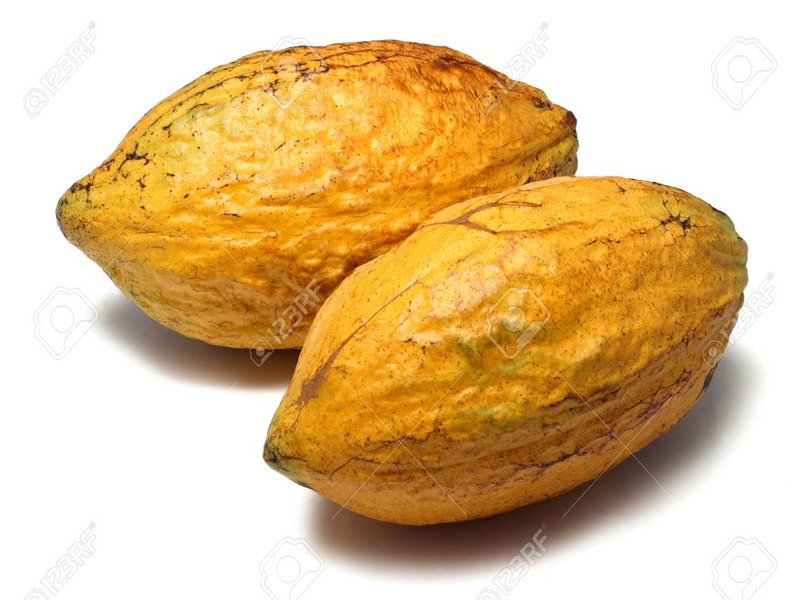Cacaopod: (259, 179, 756, 529), (44, 40, 591, 352)
